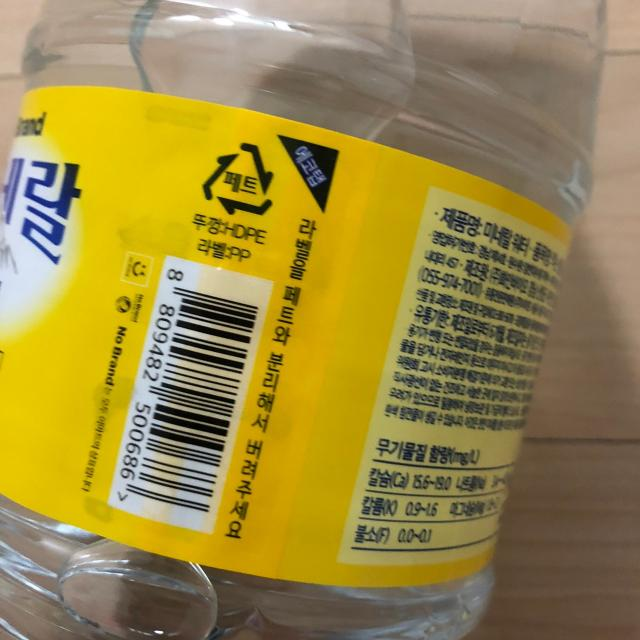PET: (198, 135, 278, 221)
